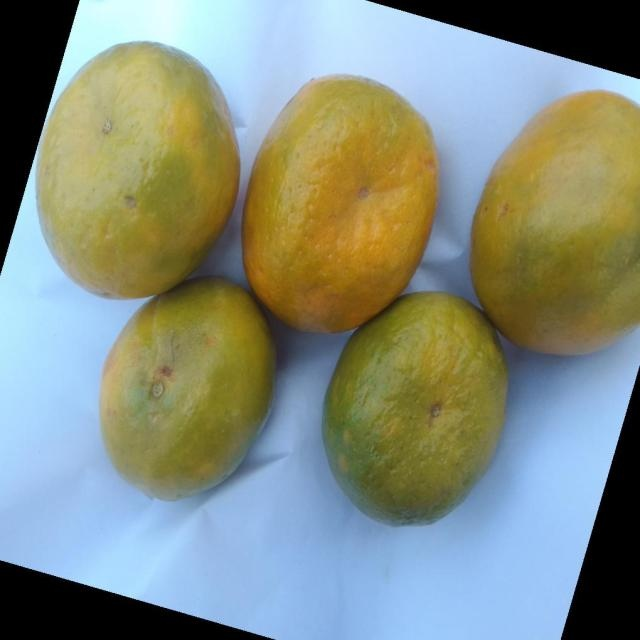agrume: (35, 38, 241, 299), (241, 71, 439, 334), (469, 88, 639, 356), (321, 290, 508, 527), (98, 275, 276, 501)
